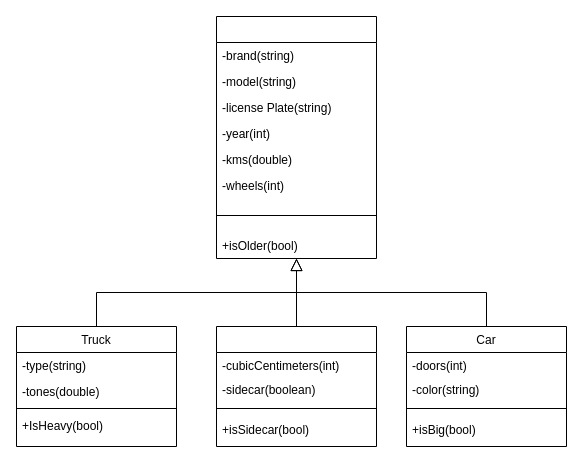
Some shapes in this 583 by 463 pixel diagram are drawn without their labels. Each missing label, with the box of its shape:
Motorbike: (216, 326, 376, 446)
Vehicle: (216, 16, 376, 258)
